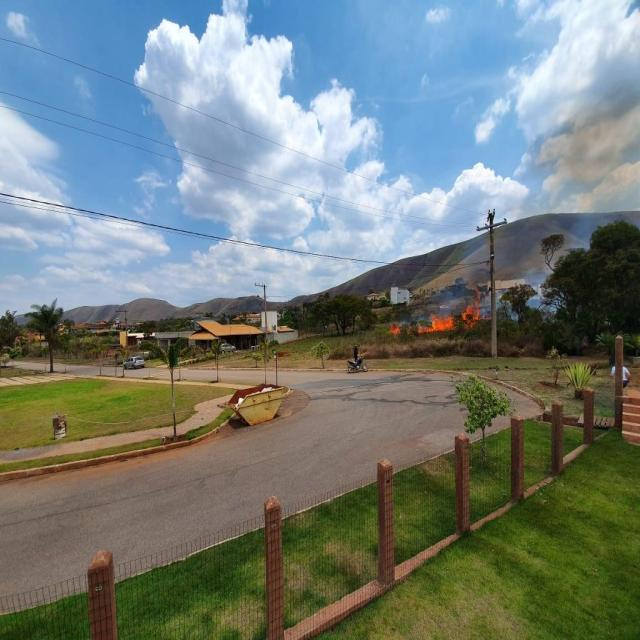Fire: (414, 310, 455, 332), (463, 295, 481, 322), (388, 323, 401, 334)
